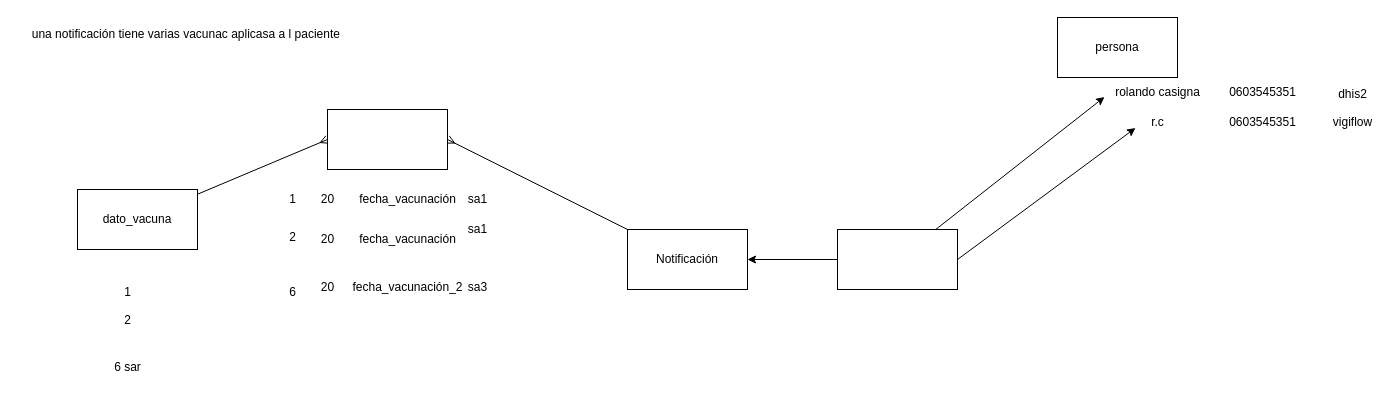
Some shapes in this 1399 by 400 pixel diagram are drawn without their labels. The centre of each missing label's shape, as x and y in pixels:
"paciente" goes at point (897, 259).
"vacunación" goes at point (387, 139).
